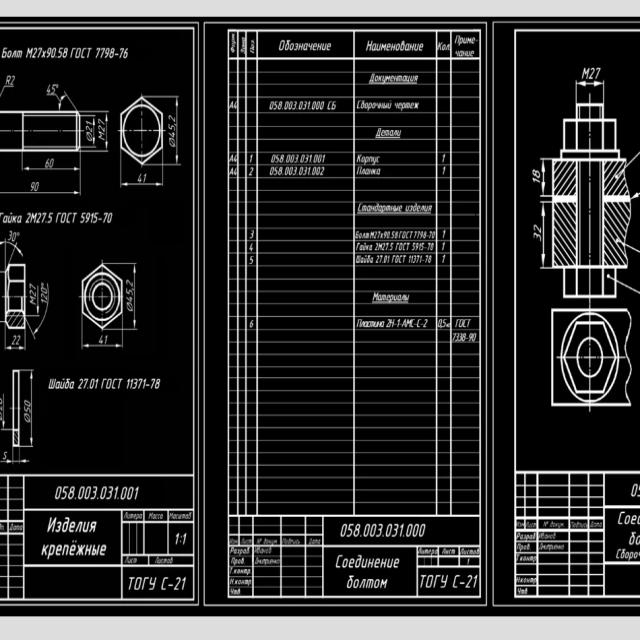marking_line: (541, 204, 547, 268), (29, 372, 34, 446), (132, 265, 137, 329), (82, 344, 125, 350), (541, 161, 546, 193), (105, 114, 109, 150), (578, 81, 602, 87), (1, 459, 29, 464), (3, 395, 6, 429), (7, 346, 25, 351), (92, 118, 95, 144)
numeric: (167, 113, 177, 138), (96, 118, 106, 142), (125, 279, 135, 303), (532, 224, 542, 242), (531, 167, 541, 185), (589, 67, 602, 79), (41, 287, 49, 305), (27, 281, 36, 297), (137, 170, 148, 183), (21, 399, 31, 413), (4, 76, 16, 87), (45, 159, 56, 170), (8, 231, 17, 244), (44, 84, 58, 92), (29, 182, 39, 192), (98, 337, 110, 345), (11, 335, 20, 345), (85, 121, 92, 133)
special_symbol: (57, 94, 75, 114), (167, 138, 178, 149), (86, 130, 94, 142), (126, 300, 133, 313), (24, 413, 31, 424)
